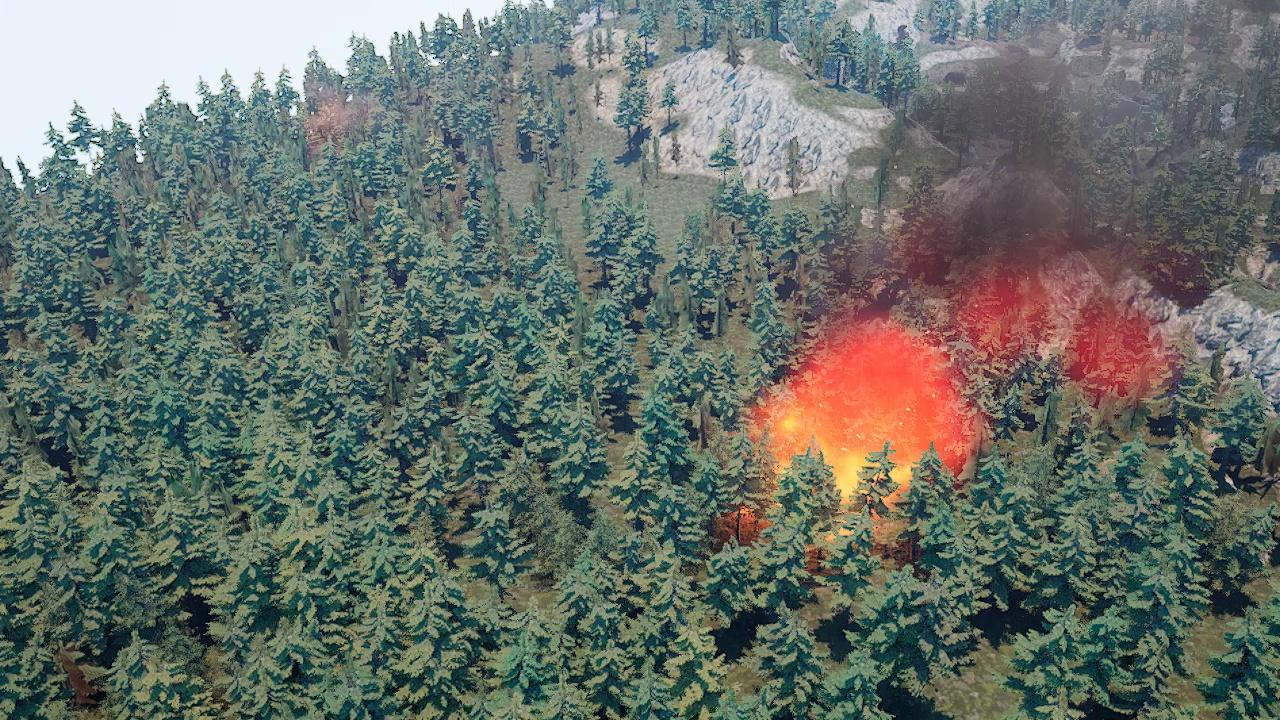fire: (740, 374, 930, 524)
smoke: (785, 0, 1280, 474), (306, 88, 354, 154)
